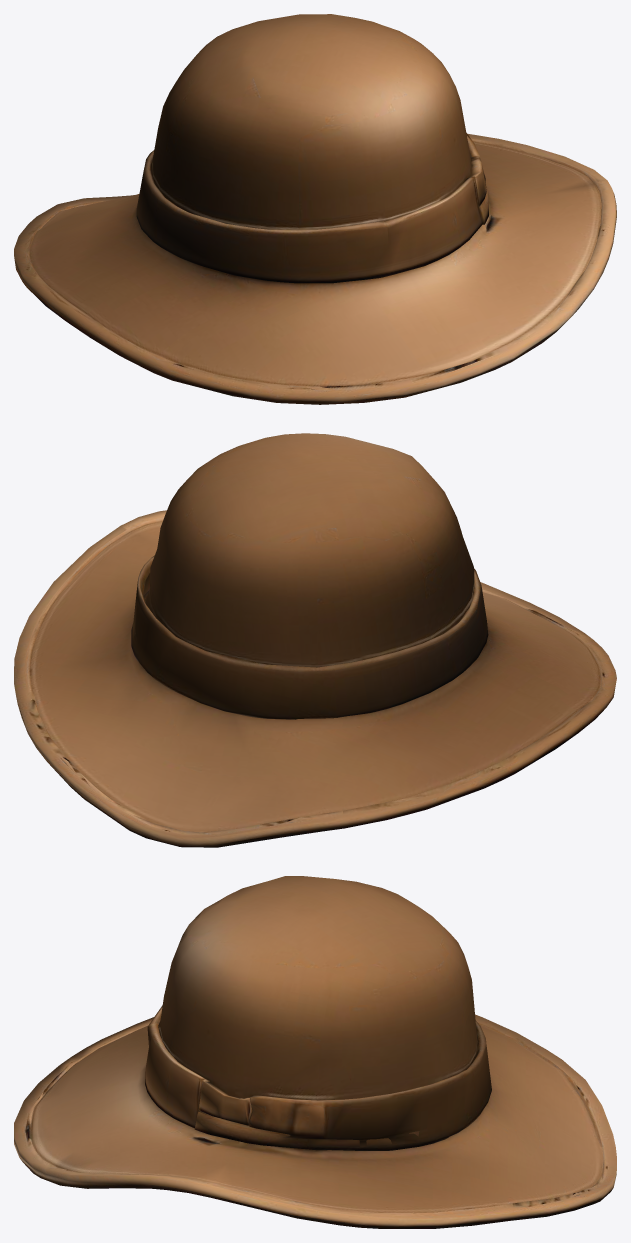
Rendered from tourist_acc_sunhat.glb.
The picture shows the model from 3 angles, top to bottom: view 1: azimuth 30°, elevation 25°; view 2: azimuth 150°, elevation 25°; view 3: azimuth 270°, elevation 25°; orthographic projection.
Visible parts, largest first — view 1: tripo_node_752ddd32-17ff-4c47-a14e-856e7ca32710; view 2: tripo_node_752ddd32-17ff-4c47-a14e-856e7ca32710; view 3: tripo_node_752ddd32-17ff-4c47-a14e-856e7ca32710.
Part boxes in pixels (bbox=[...]): tripo_node_752ddd32-17ff-4c47-a14e-856e7ca32710: bbox=[14, 14, 616, 404]; tripo_node_752ddd32-17ff-4c47-a14e-856e7ca32710: bbox=[14, 433, 616, 847]; tripo_node_752ddd32-17ff-4c47-a14e-856e7ca32710: bbox=[14, 876, 616, 1228].
Size of the model in its own units: 0.9927 by 0.5 by 0.999.
1 material, 1 textured.
